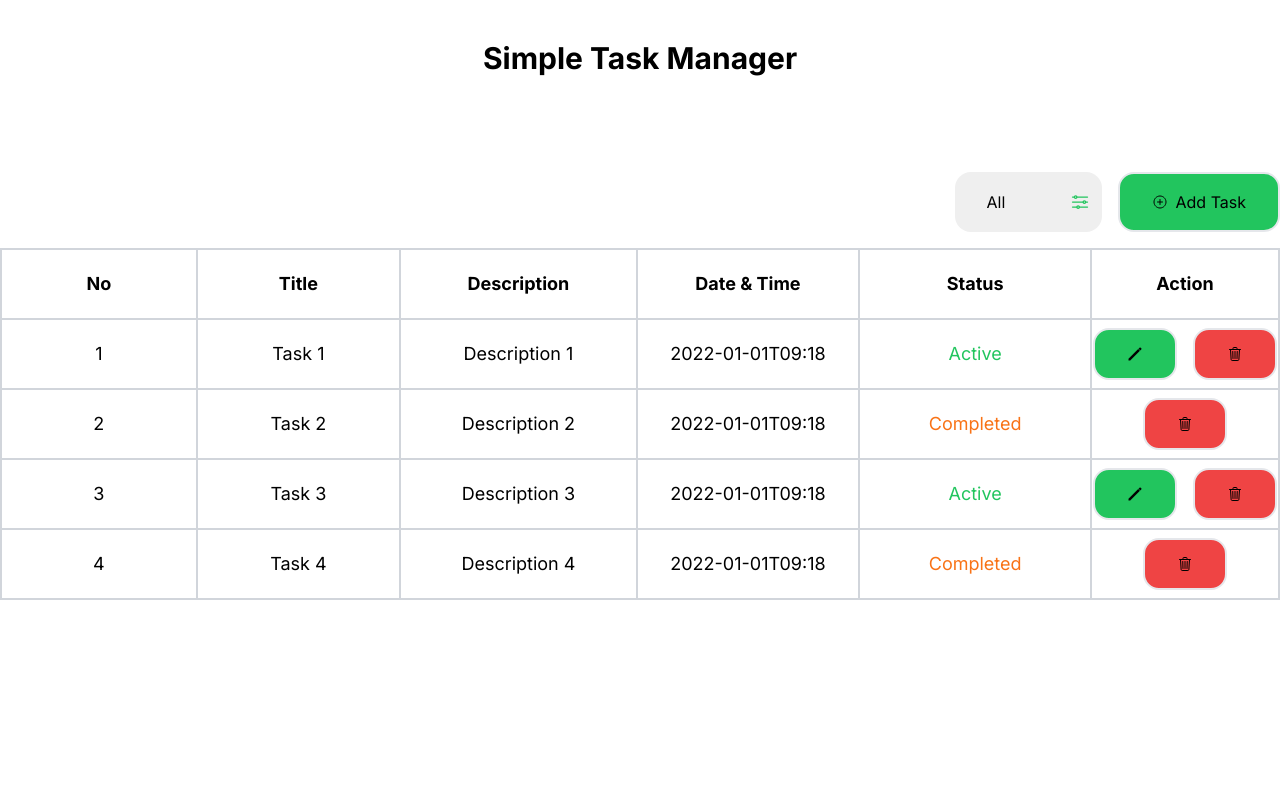
it: Page › should edit task
The width and height of the screenshot is (1280, 800).
Expected: the text "Task 1" is shown, [197,319,400,389]
Click the 1st button with test id "edit-task": (1135, 354) [1093,328,1177,380]
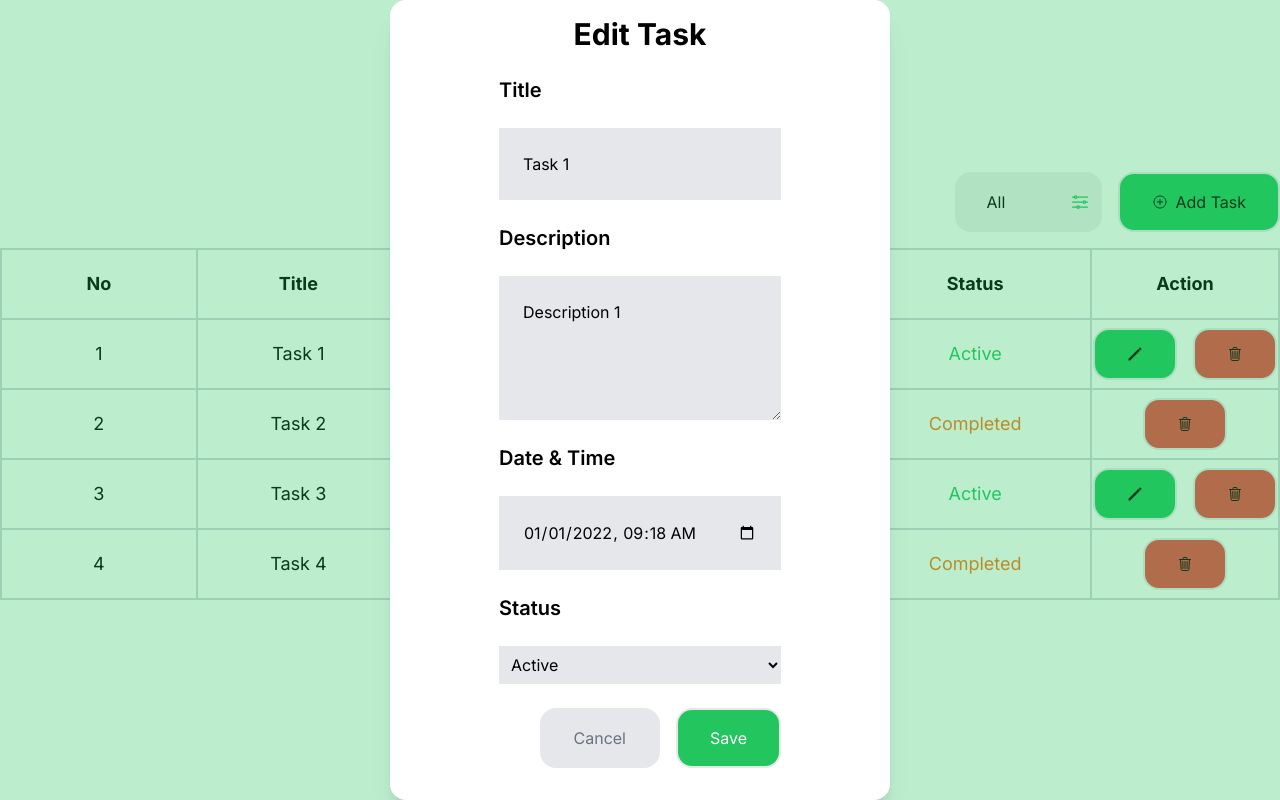
Result: the text "Edit Task" is shown at [574,16,706,52]
Result: the field with test id "title" is shown
Result: the text box with test id "description" is shown at [499,276,781,420]
Change the title input value
Replace the text in the field with test id "title" with "Edited Title": (640, 164) [499,128,781,200]
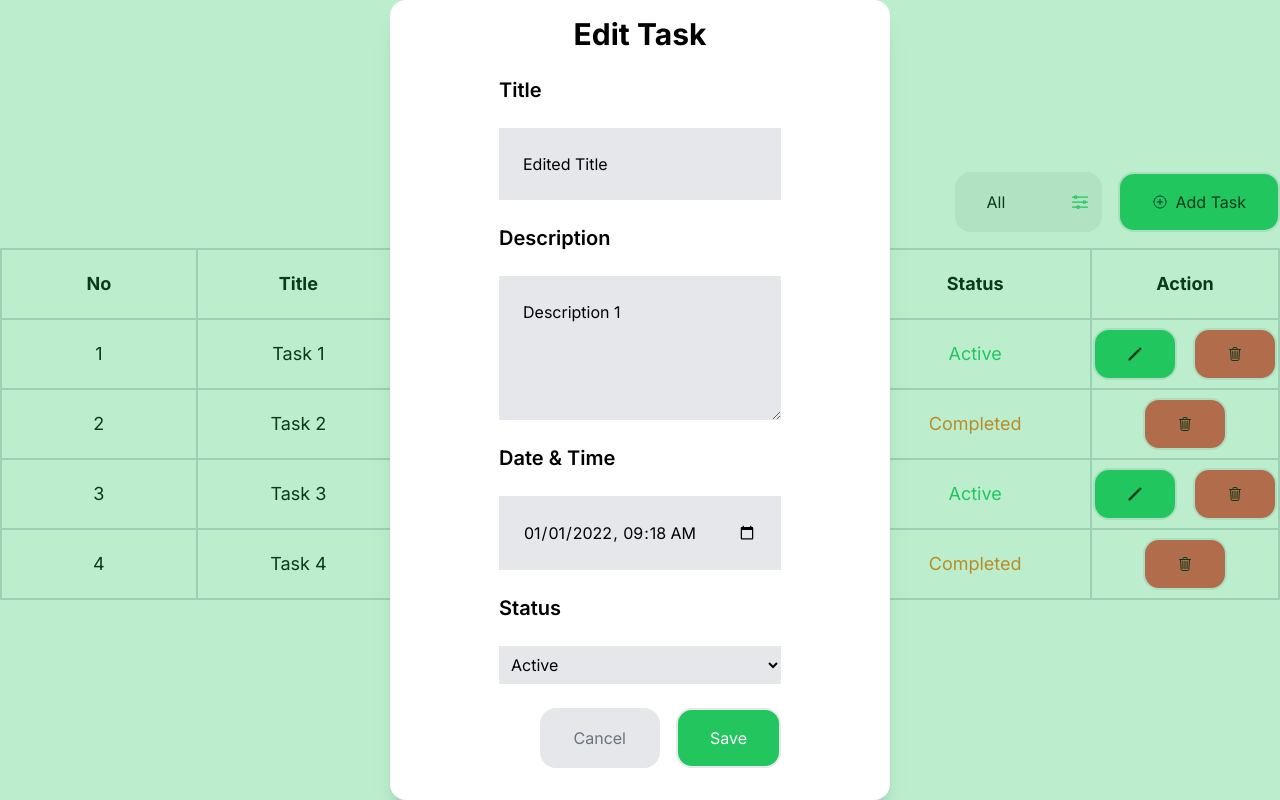
Result: the button with test id "save-task" is shown
Click the button with test id "save-task": (728, 738) [676,708,781,768]
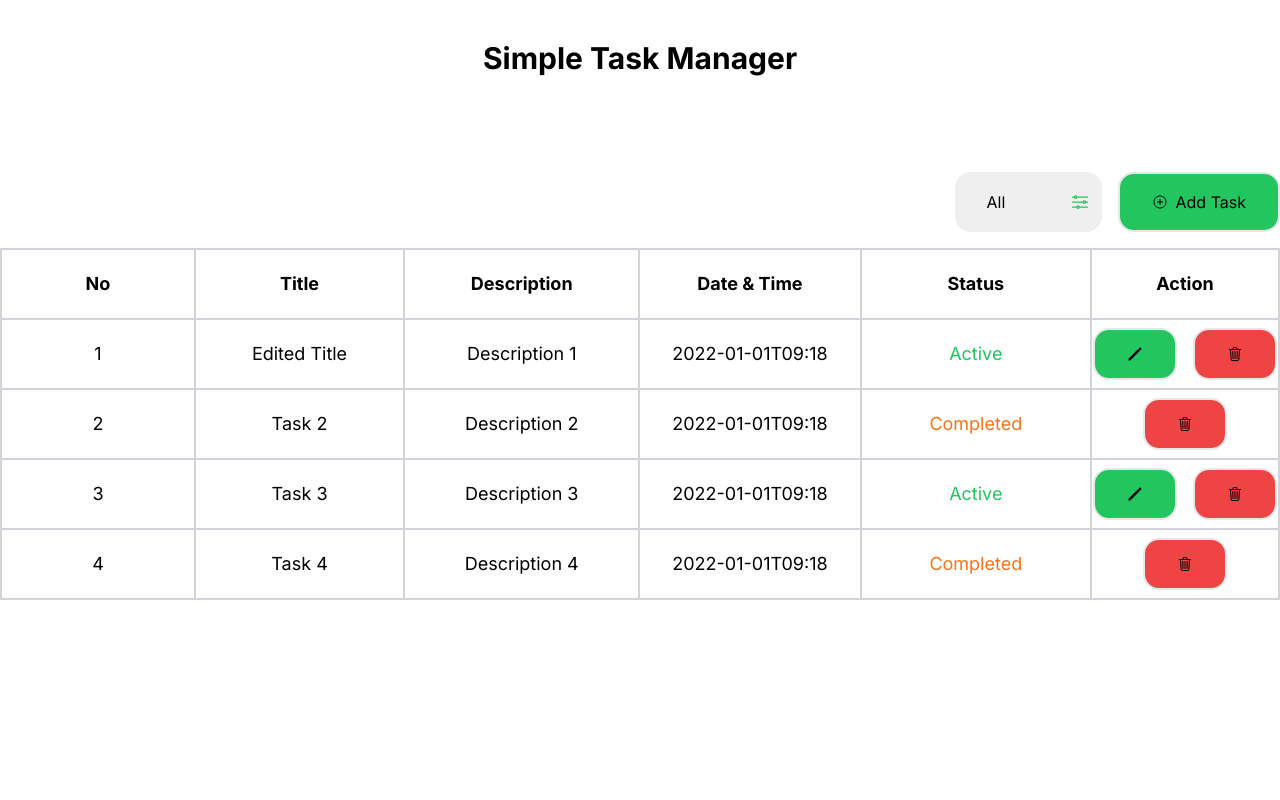
Result: the text "Edited Title" is shown at [195,319,404,389]
